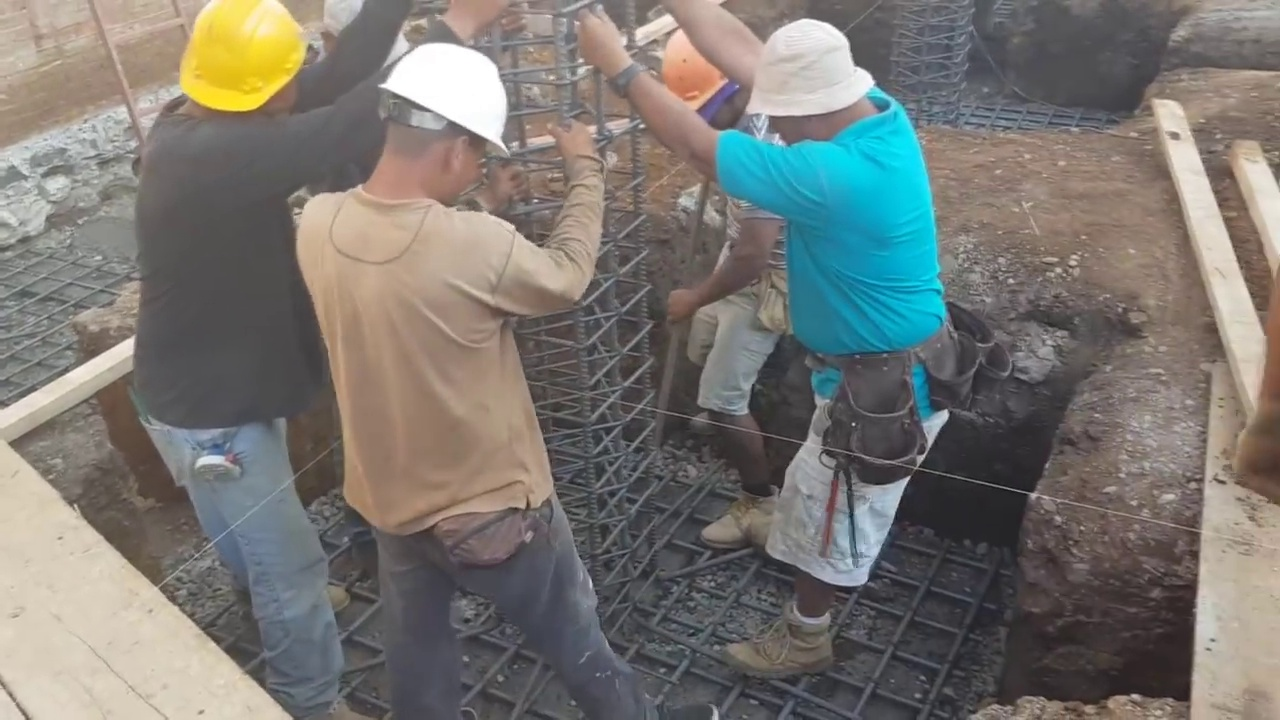helmet: (170, 3, 308, 117), (373, 43, 510, 154), (656, 18, 733, 113)
helmet-off: (735, 18, 889, 150)
helmet-on: (354, 42, 504, 210), (158, 6, 310, 135), (654, 18, 757, 142)
person: (581, 0, 971, 626), (299, 4, 606, 699), (128, 0, 408, 720), (647, 32, 807, 544)
